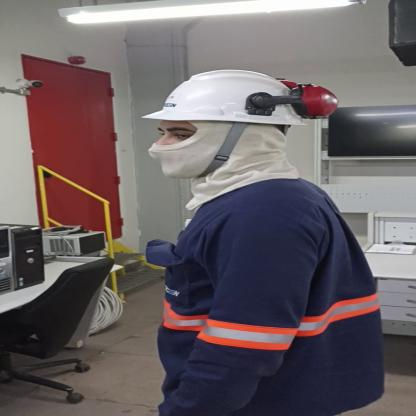Balaclava: (146, 122, 306, 188)
Capacete: (138, 68, 338, 130)
